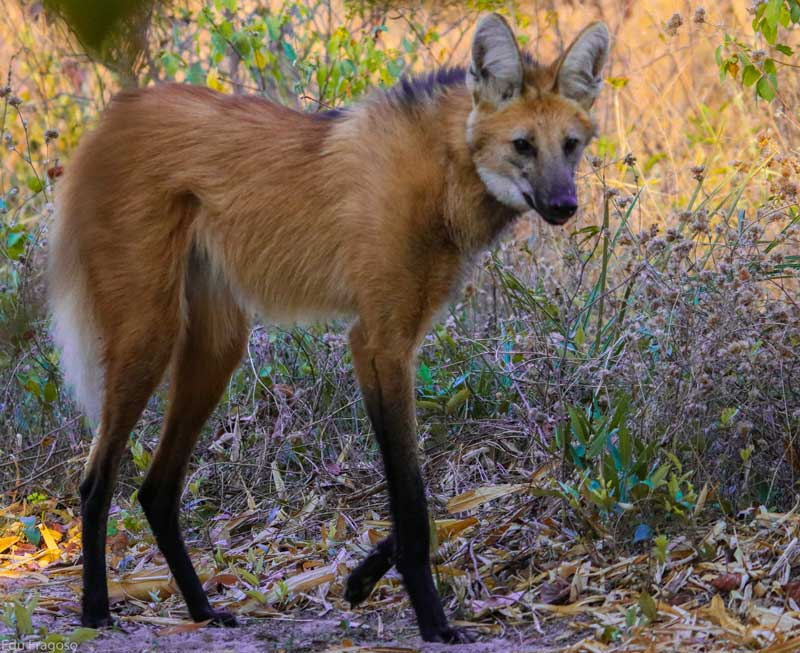LoboGuara: (49, 7, 617, 631)
